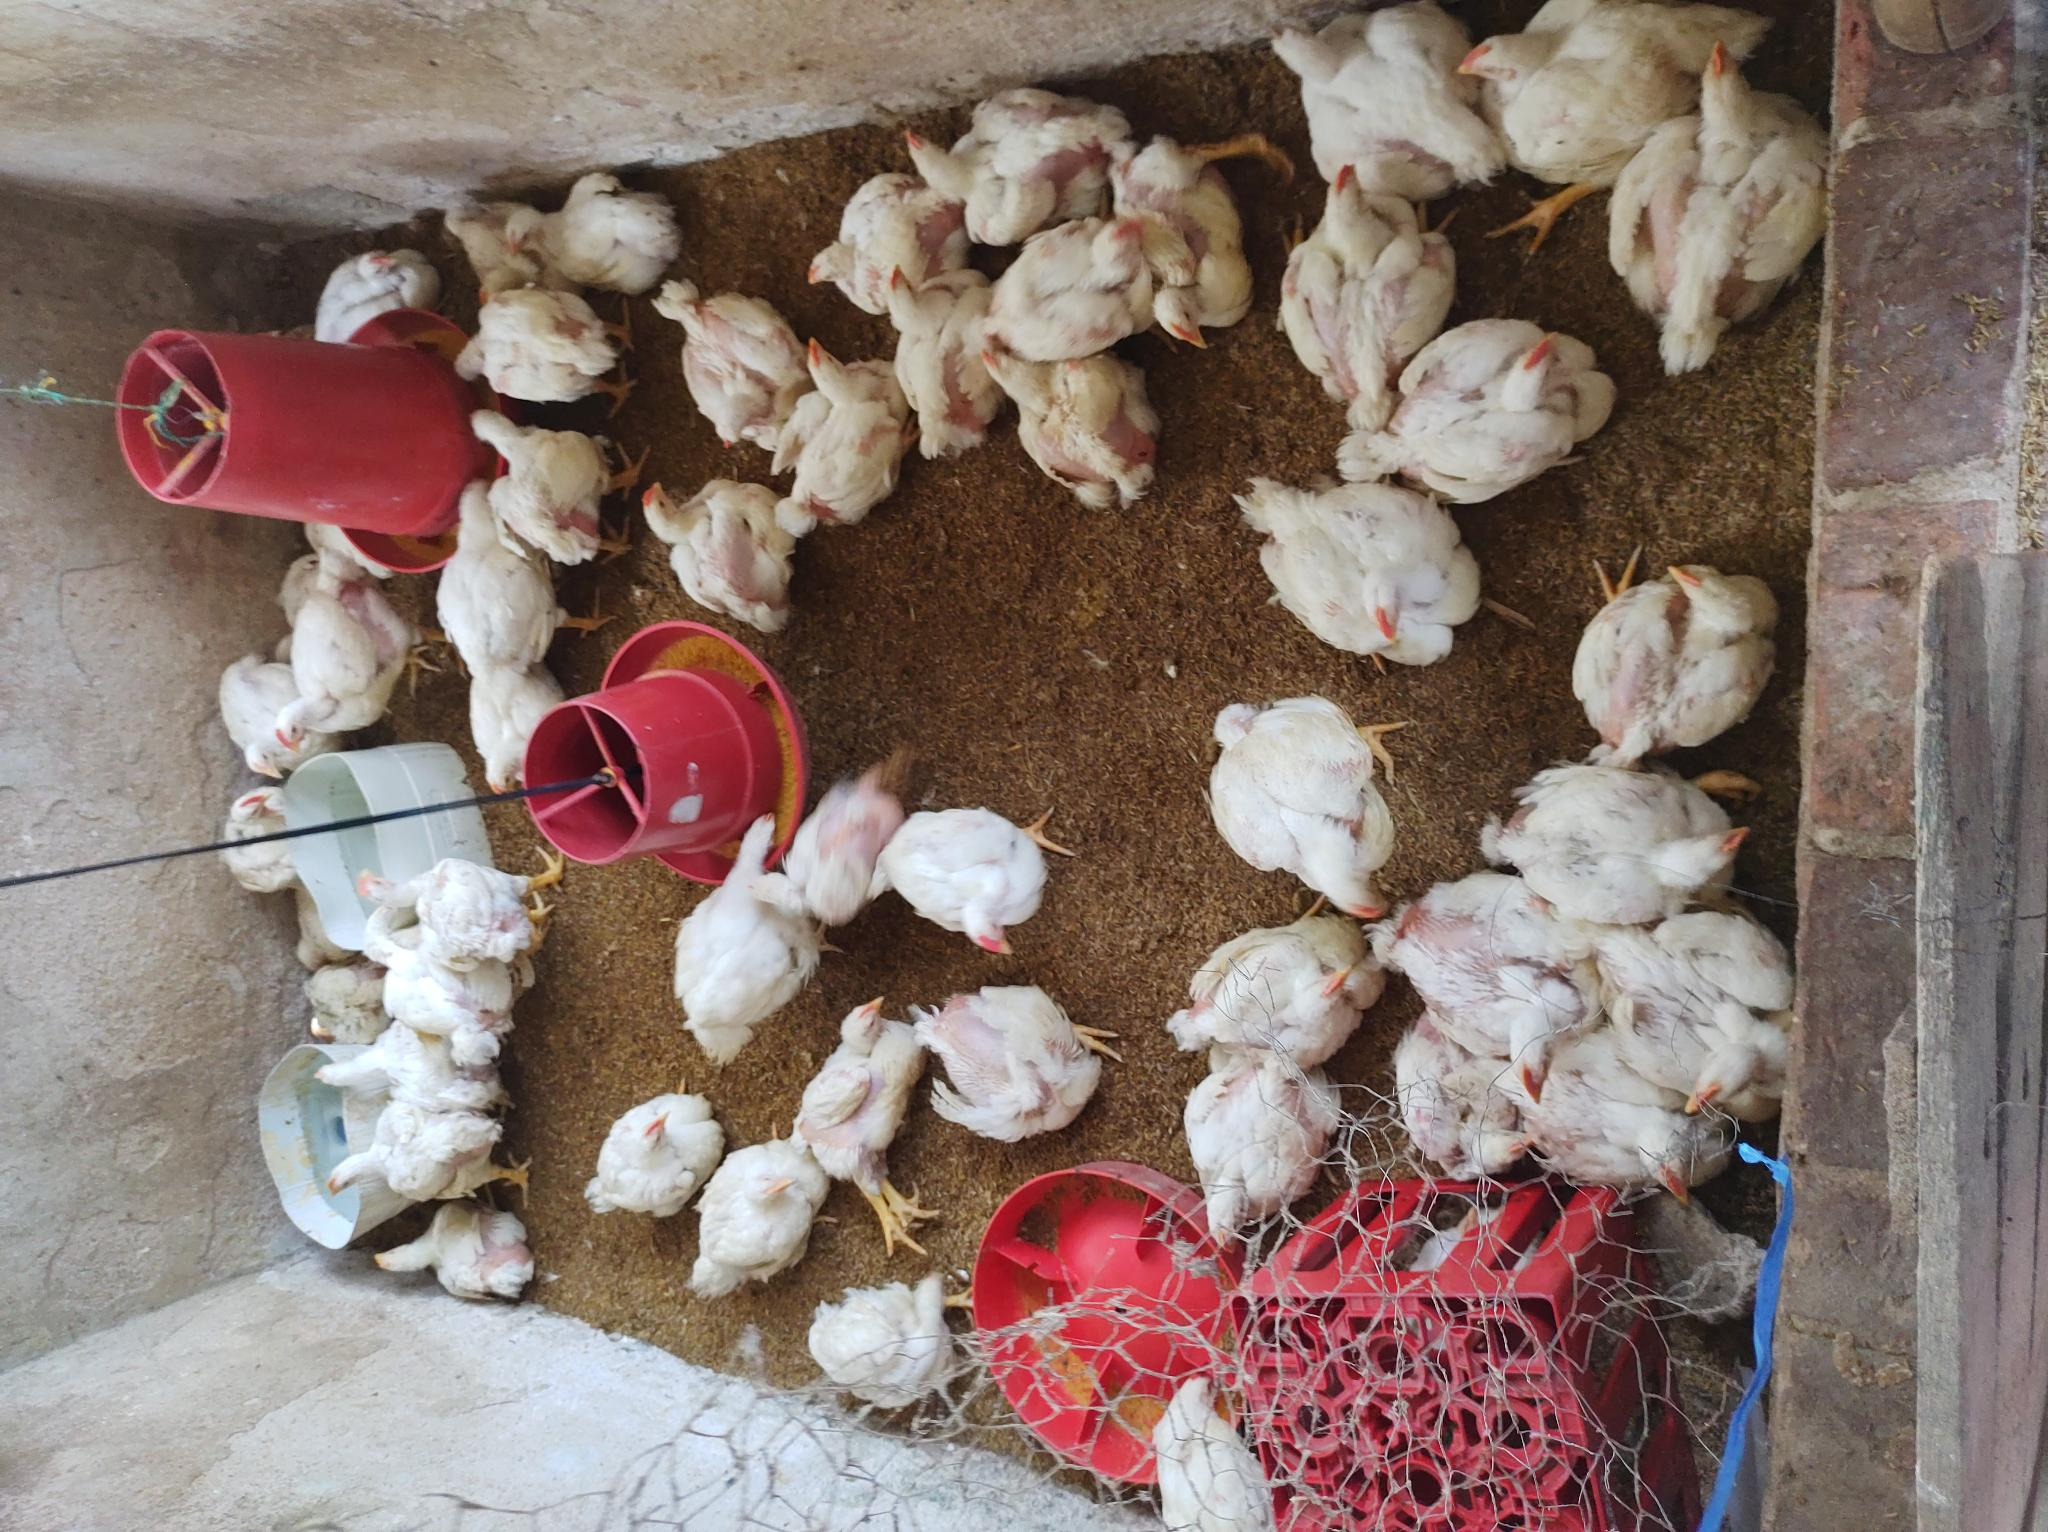Pollos: (1606, 34, 1823, 370), (1366, 871, 1615, 1112), (1451, 0, 1765, 183), (1339, 319, 1617, 507), (1244, 483, 1485, 679), (1260, 5, 1512, 191), (1277, 159, 1454, 418), (1488, 1036, 1746, 1204), (1601, 903, 1792, 1126), (1207, 698, 1396, 924), (1561, 558, 1781, 752), (1495, 763, 1758, 924), (668, 809, 812, 1069), (894, 85, 1137, 238), (1157, 916, 1384, 1072), (1178, 1038, 1343, 1249), (919, 974, 1105, 1155), (1107, 134, 1256, 356), (973, 344, 1160, 512), (742, 752, 906, 933), (874, 805, 1049, 962), (1393, 1001, 1541, 1188), (433, 475, 568, 679), (772, 332, 909, 533), (793, 990, 923, 1191), (640, 473, 795, 640), (664, 282, 808, 457), (273, 583, 415, 756), (462, 397, 607, 565), (1136, 1357, 1273, 1532), (883, 257, 1001, 460), (684, 1138, 827, 1299), (993, 214, 1145, 362), (500, 172, 682, 294), (359, 900, 520, 1035), (808, 167, 962, 307), (314, 1101, 510, 1205), (349, 856, 537, 962), (803, 1276, 951, 1410), (455, 286, 615, 404), (586, 1093, 722, 1226), (359, 1204, 541, 1300), (212, 652, 339, 784), (455, 655, 568, 803), (307, 1028, 500, 1114), (312, 241, 442, 343), (439, 193, 549, 290), (212, 779, 299, 895)
